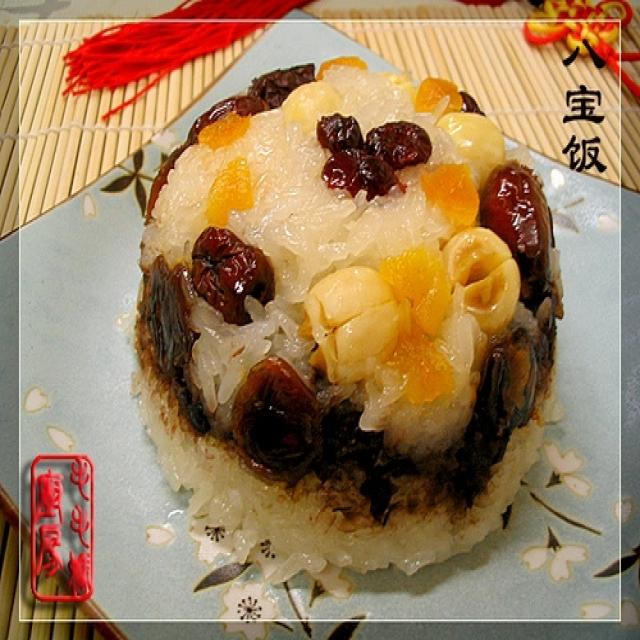米饭主食: (13, 15, 627, 613)
